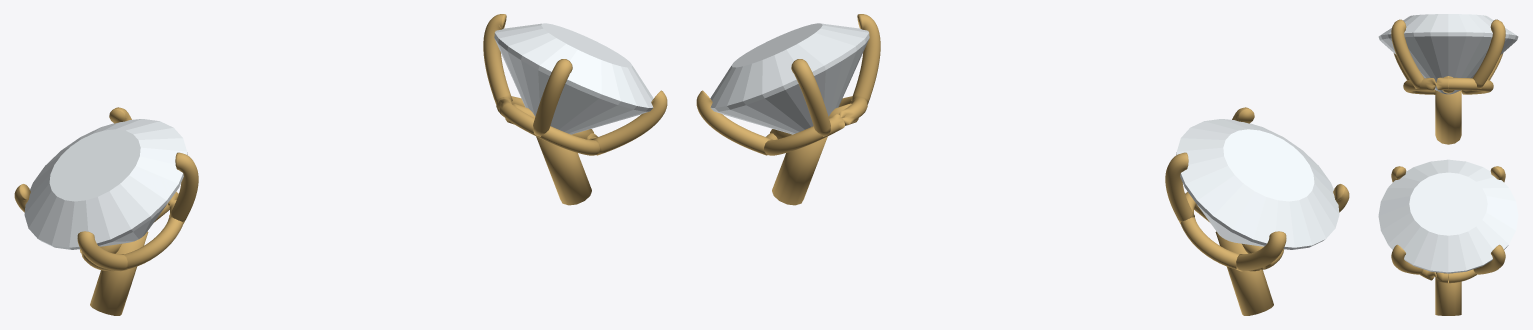
The model's file is layouts-three-stone.glb.
3 renders of one model, left to right at view 1: azimuth 30°, elevation 25°; view 2: azimuth 150°, elevation 25°; view 3: azimuth 270°, elevation 25°, orthographic. The views are drawn at different scales.
Visible parts, largest first — view 1: Gem.001, Gem.002, Side head support.001, Side head support, Lower gallery.002, Prong.011, Prong.009, Prong.010, Lower gallery.001, Prong.007, Prong.006; view 2: Gem.001, Gem.002, Side head support.001, Side head support, Lower gallery.002, Prong.008, Prong.010, Prong.009, Lower gallery.001, Prong.004, Prong.005; view 3: Gem.002, Gem.001, Side head support, Lower gallery.001, Prong.004, Prong.007, Side head support.001, Lower gallery.002, Prong.008, Prong.011, Prong.009, Prong.010.
Boxes of the visible parts, left/top/right/bottom form: Gem.001: left=24, top=119, right=187, bottom=249; Gem.002: left=494, top=23, right=653, bottom=134; Side head support.001: left=536, top=136, right=591, bottom=205; Side head support: left=90, top=231, right=148, bottom=315; Lower gallery.002: left=496, top=96, right=599, bottom=155; Prong.011: left=591, top=90, right=667, bottom=155; Prong.009: left=483, top=14, right=512, bottom=104; Prong.010: left=533, top=59, right=572, bottom=136; Lower gallery.001: left=80, top=191, right=183, bottom=271; Prong.007: left=169, top=152, right=198, bottom=223; Prong.006: left=77, top=231, right=127, bottom=271; Gem.001: left=1176, top=119, right=1339, bottom=249; Gem.002: left=710, top=23, right=869, bottom=134; Side head support.001: left=772, top=136, right=827, bottom=205; Side head support: left=1215, top=231, right=1273, bottom=315; Lower gallery.002: left=764, top=96, right=867, bottom=155; Prong.008: left=696, top=90, right=772, bottom=155; Prong.010: left=851, top=14, right=880, bottom=104; Prong.009: left=791, top=59, right=830, bottom=136; Lower gallery.001: left=1180, top=191, right=1283, bottom=271; Prong.004: left=1165, top=152, right=1194, bottom=223; Prong.005: left=1236, top=231, right=1286, bottom=271; Gem.002: left=1378, top=159, right=1518, bottom=273; Gem.001: left=1378, top=14, right=1518, bottom=94; Side head support: left=1435, top=90, right=1461, bottom=144; Lower gallery.001: left=1403, top=77, right=1493, bottom=94; Prong.004: left=1472, top=19, right=1505, bottom=88; Prong.007: left=1391, top=19, right=1424, bottom=88; Side head support.001: left=1435, top=272, right=1461, bottom=315; Lower gallery.002: left=1420, top=269, right=1476, bottom=283; Prong.008: left=1473, top=244, right=1505, bottom=274; Prong.011: left=1391, top=244, right=1423, bottom=274; Prong.009: left=1490, top=166, right=1505, bottom=182; Prong.010: left=1391, top=166, right=1406, bottom=182.
Bounding box in the file's own units: 12.51 × 3.43 × 3.2.
